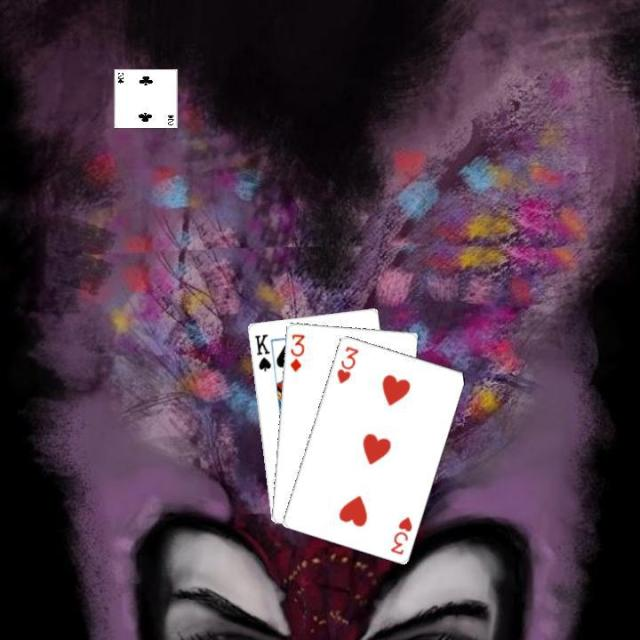3D: (286, 330, 307, 373)
3H: (332, 342, 360, 385), (386, 512, 413, 556)
KS: (251, 330, 272, 373)
